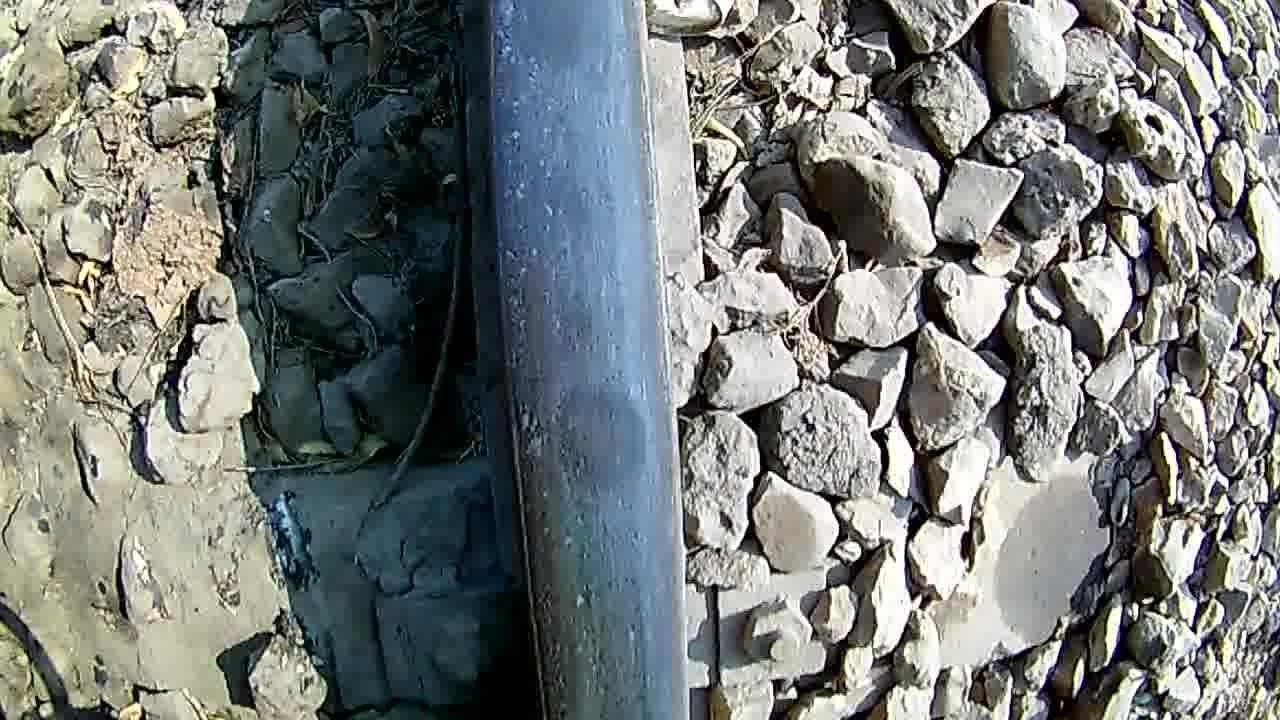crack: (492, 0, 656, 715)
